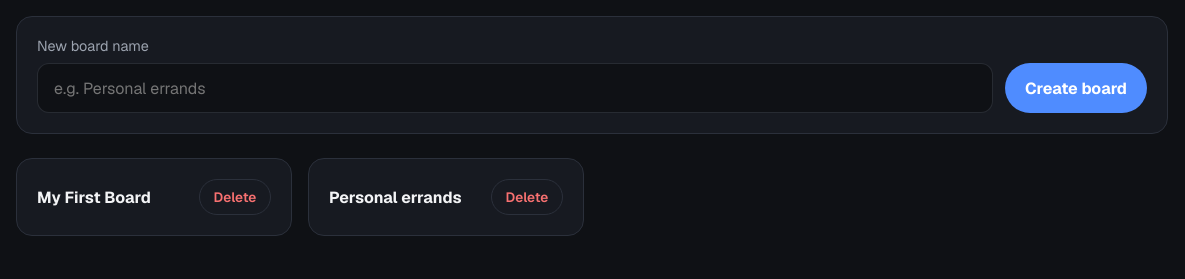
Test case: BoardList component › blocks creating a board with an empty name
Click the button with test id "create-board-button": coordinates (1076, 88) [1005,63,1147,113]
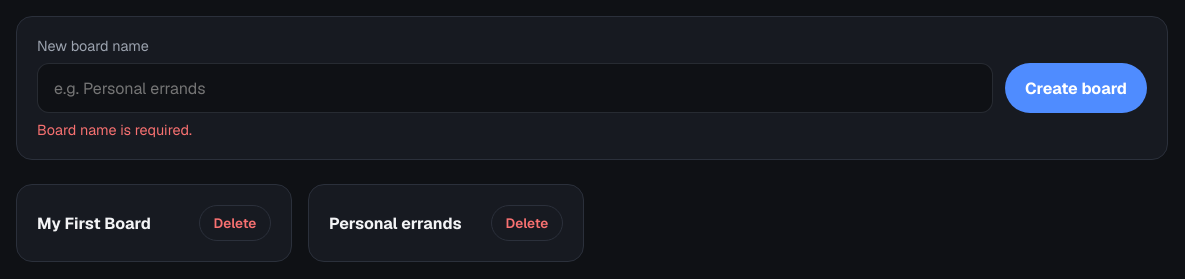
Result: the text "Board name is required." is shown at [37,121,192,139]
